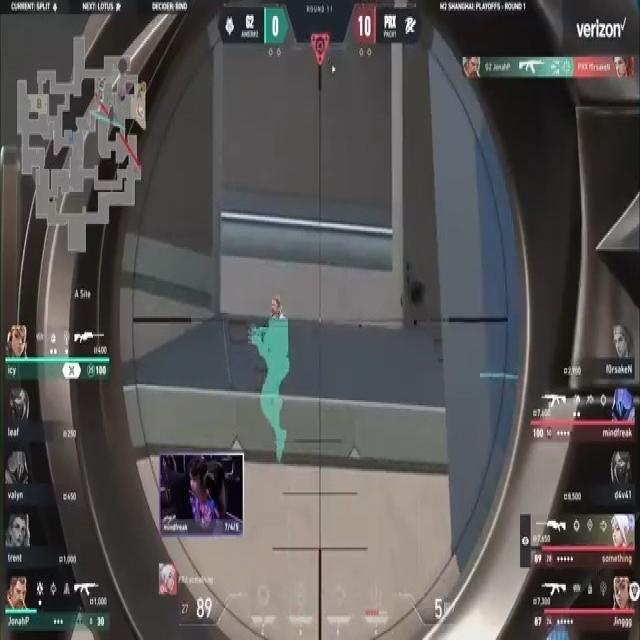ally behind wall: (249, 301, 301, 469)
